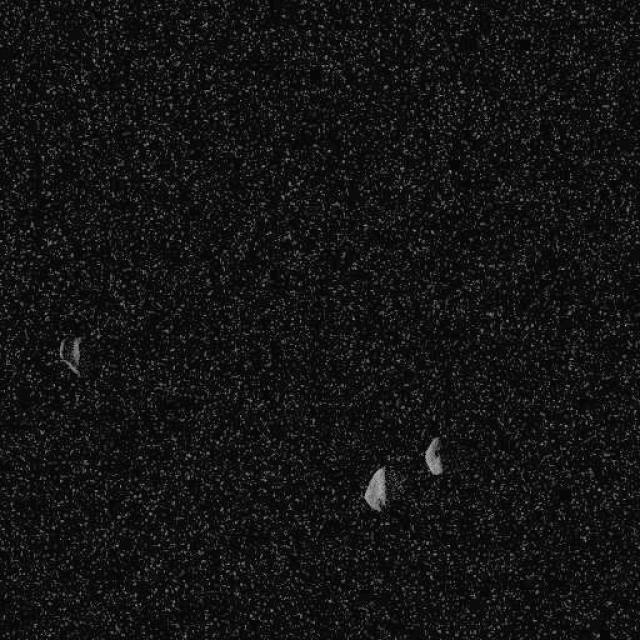D2: (362, 465, 388, 513), (58, 334, 82, 376), (422, 435, 443, 476)
